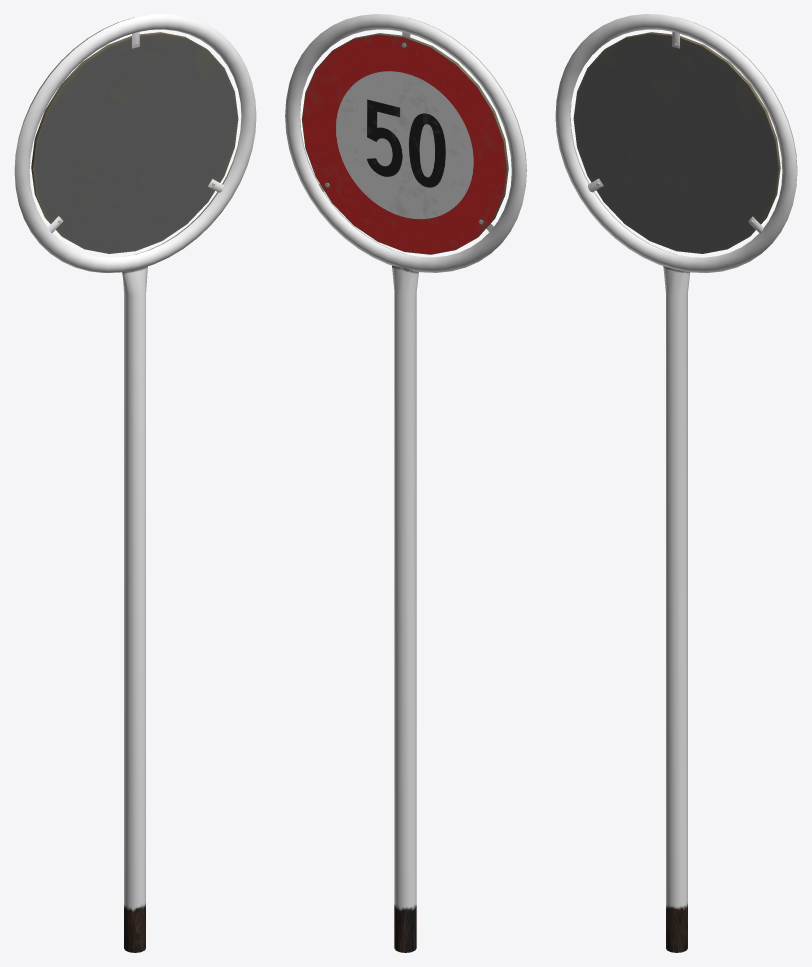
File: SM_Sign_CH_T_50.glb
3 views of the same model, side by side, from view 1: azimuth 30°, elevation 25°; view 2: azimuth 150°, elevation 25°; view 3: azimuth 330°, elevation 25° (orthographic).
Parts seen in each view (by area): view 1: SM_Sign_CH_Round; view 2: SM_Sign_CH_Round; view 3: SM_Sign_CH_Round.
Part boxes in pixels (x1,y1,x2,y2): SM_Sign_CH_Round: (14, 14, 256, 952); SM_Sign_CH_Round: (285, 14, 526, 952); SM_Sign_CH_Round: (555, 14, 797, 952).
Bounding box in the file's own units: 0.7519 × 2.77 × 0.06.
Materials: 2 (2 with a texture image).
